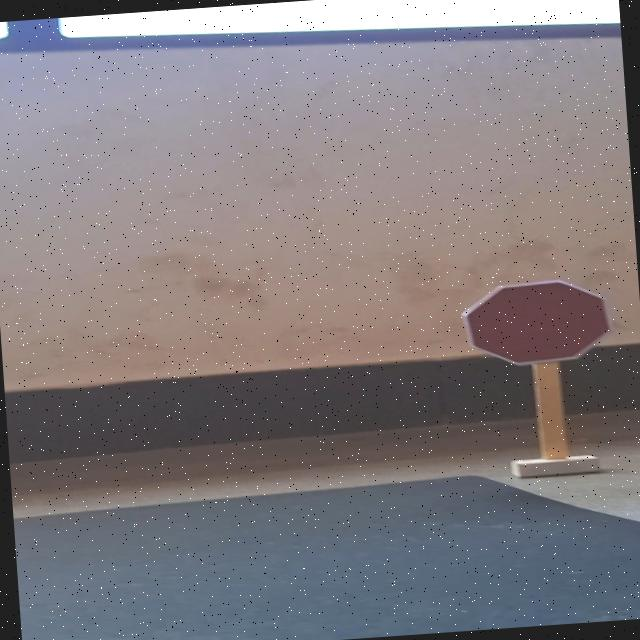Stop: (454, 274, 616, 368)
